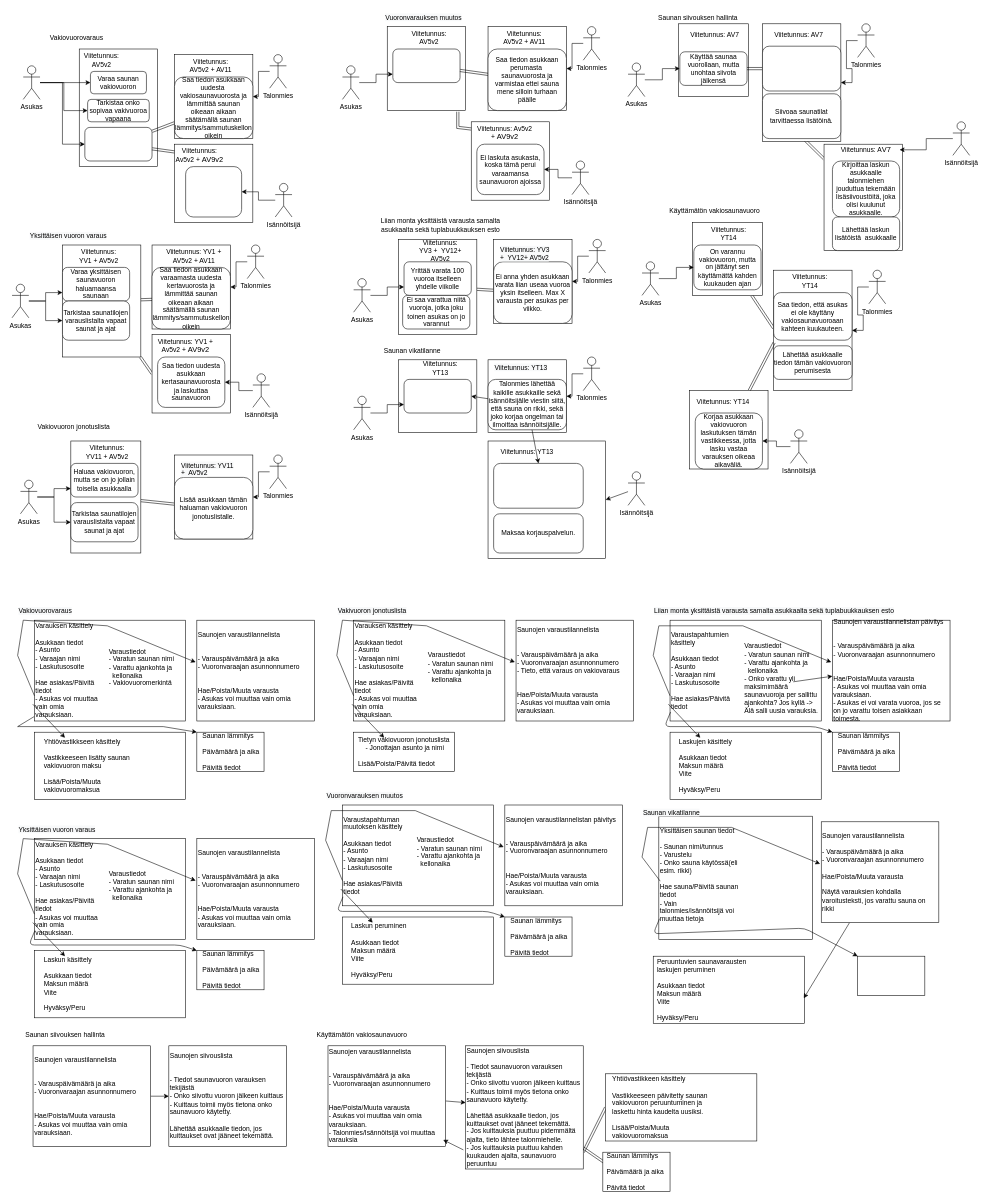
Image size: 988x1201. Some labels were removed from this diagram. The centre of each missing label's shape, as x and y in pixels:
"Korjauksen tilaus - Saunan tiedot - Maksutiedot" goes at (x=891, y=975).
"Liittää vakiovuoron maksun vastikkeeseen" goes at (x=213, y=191).
"Omistaa vakiosaunavuoron, mutta sauna onkin rikki" goes at (x=437, y=396).
"Peruu aiemmin varaamansa yksittäisen saunavuoron" goes at (x=426, y=65).
"Peruu vakiovuoronsa tai muuttaa päivää/aikaa" goes at (x=118, y=144).
"Saa tiedon ettei asukas ole kuitannut siivonneensa saunaa käytön jälkeen" goes at (x=801, y=68).
"Saa tiedon saunan rikkoutumisesta sekä tilaa tarvittaessa korjauspalvelun." goes at (x=538, y=485).
